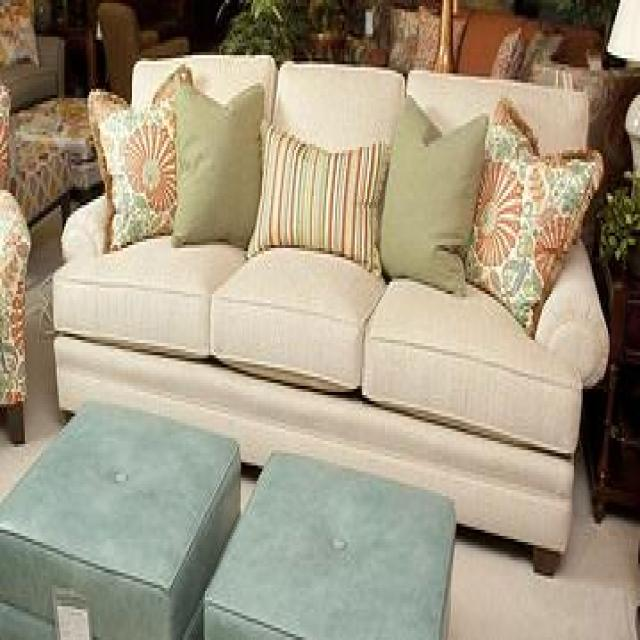sofa: (48, 48, 611, 580)
